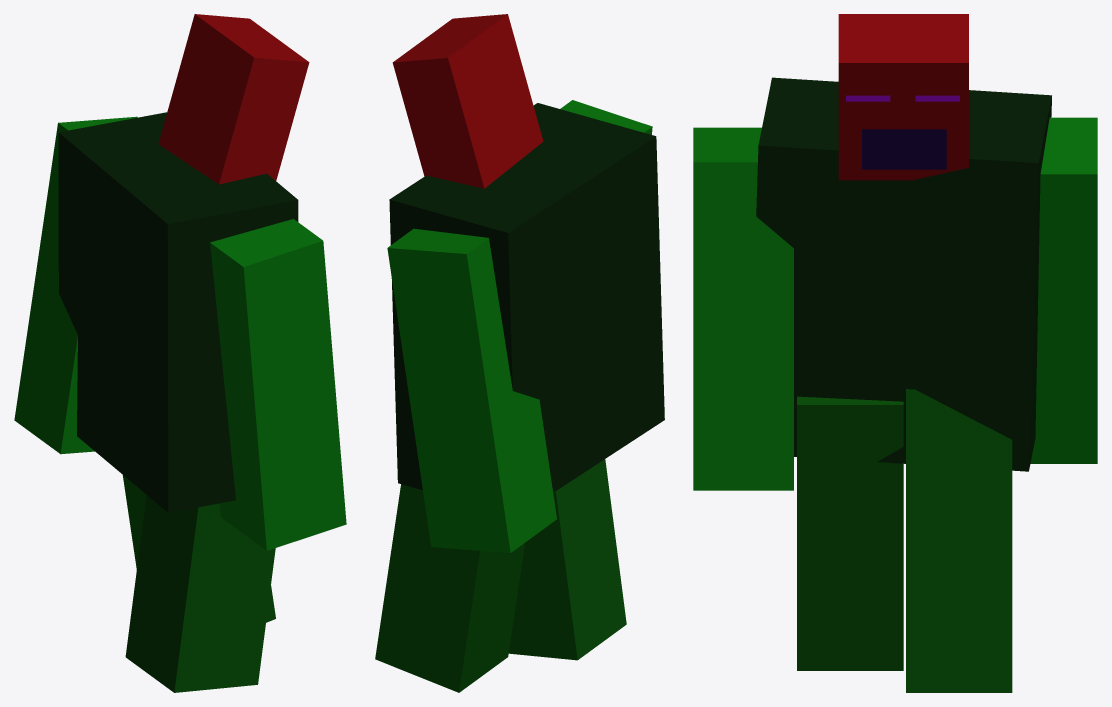
File: walk_000013.obj
The picture shows the model from 3 angles, left to right: view 1: azimuth 30°, elevation 25°; view 2: azimuth 150°, elevation 25°; view 3: azimuth 270°, elevation 25°; orthographic projection. The views are drawn at different scales.
Parts seen in each view (by area): view 1: Cube, leg.002_Cube.006, leg.001_Cube.007, Cube.001_Cube.003, leg.003_Cube.002, leg_Cube.001; view 2: Cube, leg.003_Cube.002, leg_Cube.001, Cube.001_Cube.003, leg.001_Cube.007, leg.002_Cube.006; view 3: Cube, leg.002_Cube.006, leg_Cube.001, leg.001_Cube.007, leg.003_Cube.002, Cube.001_Cube.003, Plane.002.
Part boxes in pixels (x1=…): Cube: x1=58, y1=112, x2=298, y2=512; leg.002_Cube.006: x1=210, y1=219, x2=346, y2=550; leg.001_Cube.007: x1=125, y1=495, x2=275, y2=692; Cube.001_Cube.003: x1=158, y1=14, x2=309, y2=184; leg.003_Cube.002: x1=14, y1=116, x2=137, y2=454; leg_Cube.001: x1=122, y1=475, x2=275, y2=622; Cube: x1=389, y1=103, x2=664, y2=492; leg.003_Cube.002: x1=387, y1=228, x2=556, y2=553; leg_Cube.001: x1=375, y1=484, x2=524, y2=692; Cube.001_Cube.003: x1=392, y1=14, x2=543, y2=188; leg.001_Cube.007: x1=508, y1=459, x2=626, y2=660; leg.002_Cube.006: x1=560, y1=100, x2=652, y2=134; Cube: x1=756, y1=77, x2=1051, y2=471; leg.002_Cube.006: x1=693, y1=127, x2=793, y2=490; leg_Cube.001: x1=906, y1=389, x2=1012, y2=692; leg.001_Cube.007: x1=797, y1=396, x2=903, y2=670; leg.003_Cube.002: x1=1030, y1=117, x2=1097, y2=463; Cube.001_Cube.003: x1=838, y1=14, x2=968, y2=180; Plane.002: x1=862, y1=129, x2=946, y2=169.
Bounding box in the file's own units: 1.91 × 6.29 × 3.47.
